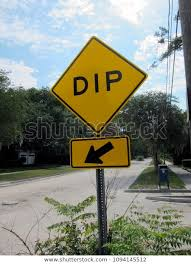dip: (49, 34, 150, 133)
